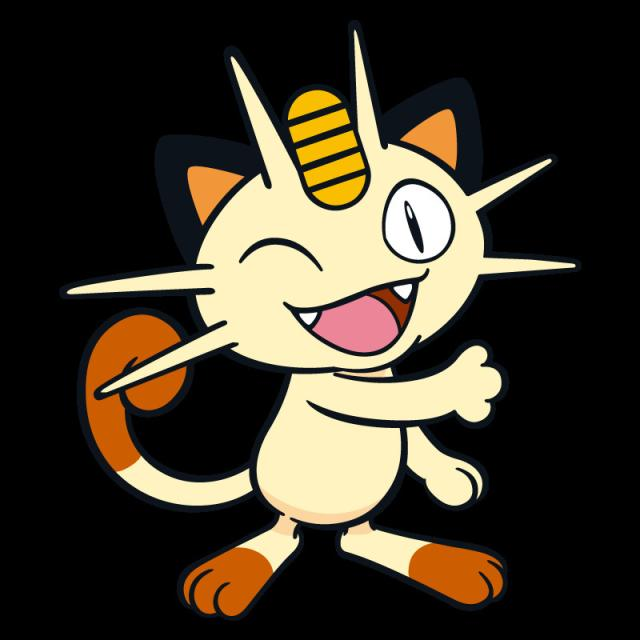Meowth: (192, 105, 476, 607)
